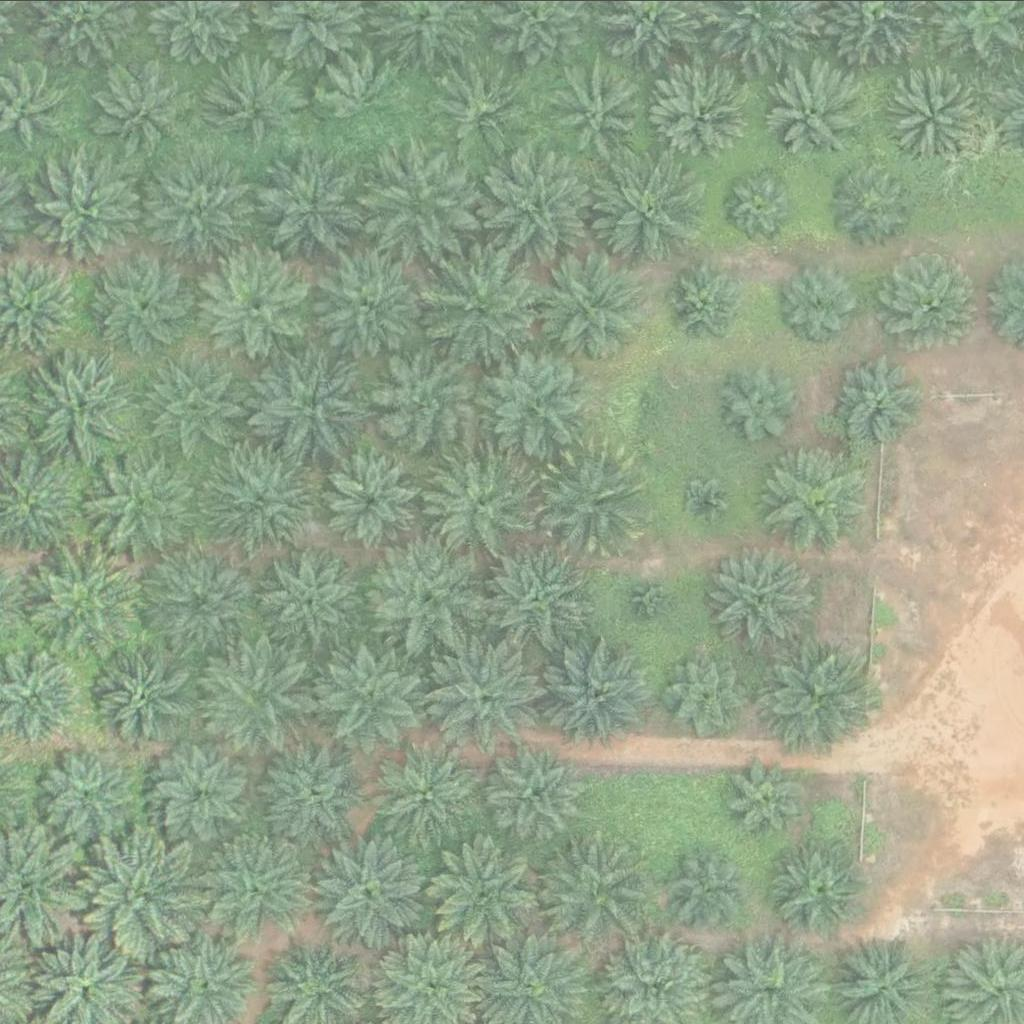Kelapa_Sawit: (87, 444, 201, 557), (582, 152, 696, 265), (313, 249, 427, 362), (423, 252, 537, 365), (142, 351, 256, 464), (252, 349, 366, 462), (207, 441, 321, 554), (86, 836, 199, 949), (34, 152, 147, 265), (533, 247, 646, 360), (373, 345, 486, 458), (317, 637, 430, 750), (430, 637, 543, 750), (545, 634, 658, 747), (366, 739, 479, 852), (758, 634, 871, 747), (36, 542, 150, 654), (363, 149, 477, 261), (480, 147, 594, 259), (758, 443, 872, 555), (534, 444, 647, 556), (145, 546, 258, 658), (28, 348, 141, 460), (85, 249, 198, 361), (142, 150, 255, 262), (257, 151, 370, 263), (200, 251, 313, 363), (480, 341, 593, 453), (424, 446, 537, 558), (370, 546, 483, 658), (477, 542, 590, 654), (199, 643, 312, 755), (203, 831, 316, 943), (314, 834, 427, 946), (426, 829, 539, 941), (533, 830, 646, 942), (708, 542, 821, 654), (36, 743, 137, 843), (155, 741, 256, 841), (97, 641, 198, 741), (203, 53, 304, 153), (321, 449, 422, 549), (262, 547, 363, 647), (259, 741, 360, 841), (486, 740, 587, 840), (654, 65, 755, 165), (766, 59, 867, 159), (884, 64, 985, 164), (430, 61, 530, 161), (549, 57, 649, 157), (879, 247, 979, 347), (776, 843, 865, 931), (320, 56, 408, 144), (831, 350, 919, 438), (96, 62, 184, 149), (666, 648, 754, 735), (716, 357, 804, 444), (666, 258, 754, 345), (775, 261, 863, 348), (830, 159, 918, 246), (676, 847, 752, 922), (727, 761, 802, 836), (722, 168, 797, 243), (624, 570, 675, 620), (680, 476, 731, 526), (617, 379, 667, 429)
